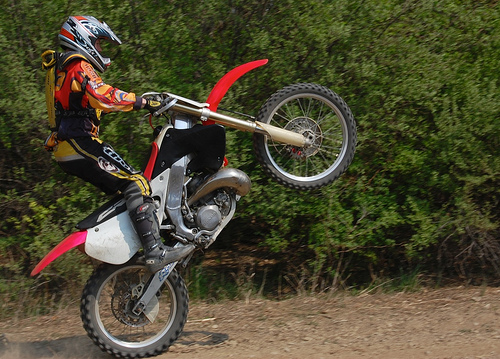helmet: (59, 14, 121, 62)
